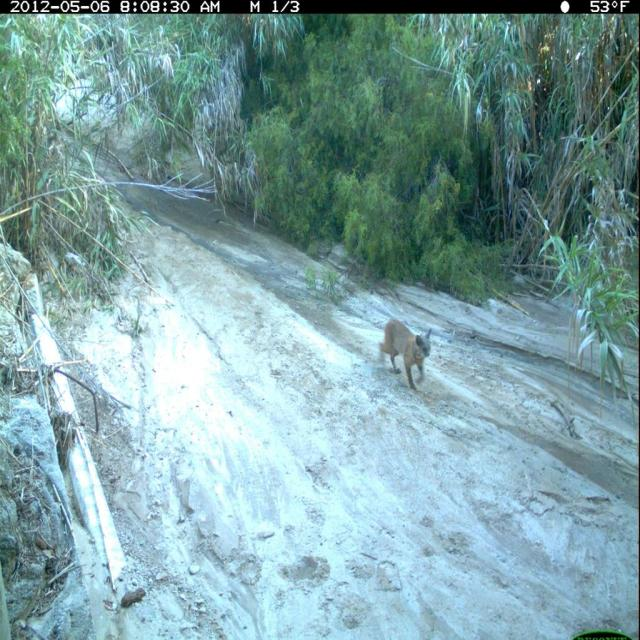bobcat: (377, 313, 435, 407)
